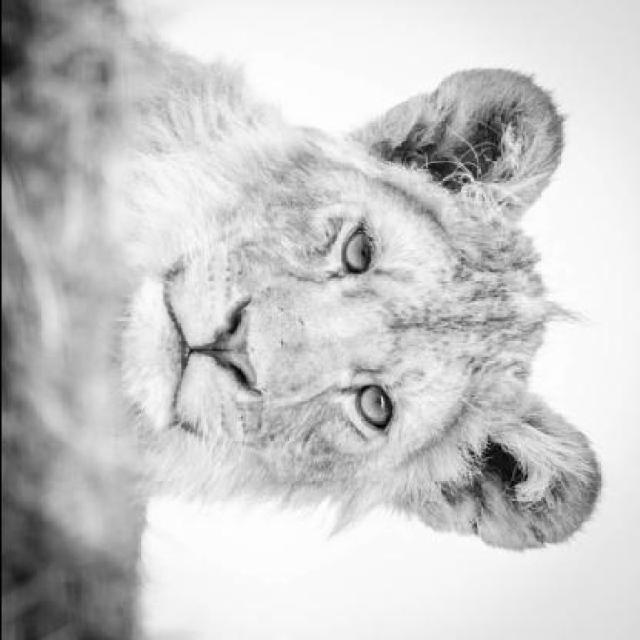Lion: (1, 1, 612, 614)
